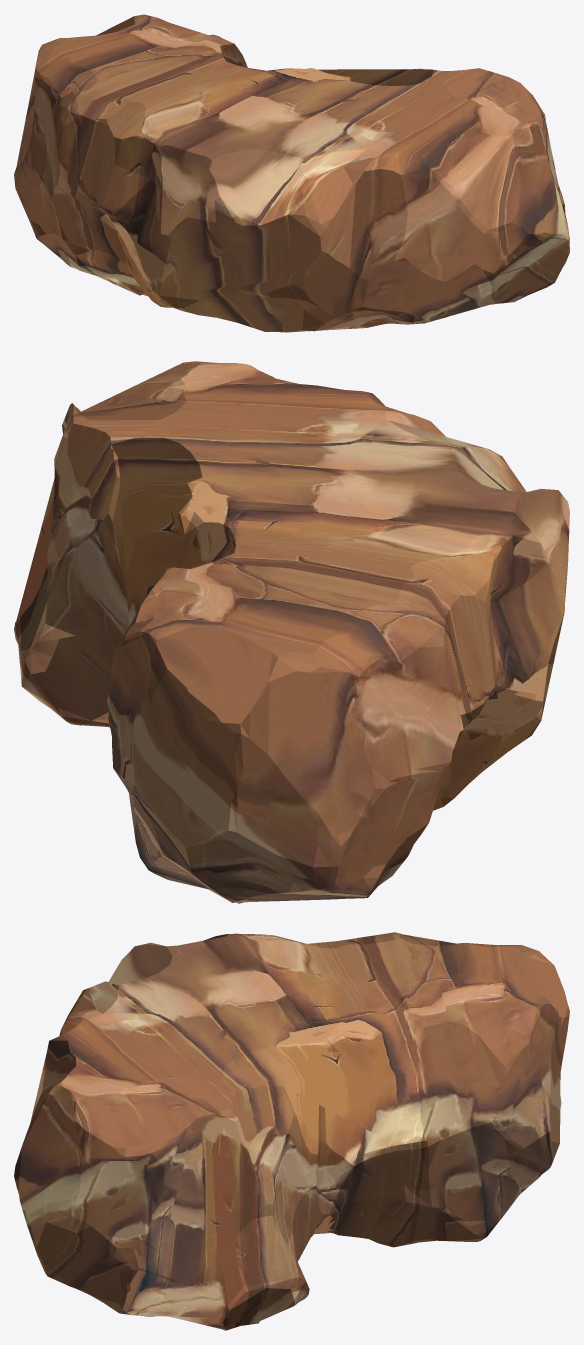
Rendered from platform04.fbx.
The picture shows the model from 3 angles, top to bottom: view 1: azimuth 30°, elevation 25°; view 2: azimuth 150°, elevation 25°; view 3: azimuth 270°, elevation 25°; orthographic projection. The views are drawn at different scales.
Parts seen in each view (by area): view 1: platform04; view 2: platform04; view 3: platform04.
Part boxes in pixels (box(x1,y1,x2,y2)): platform04: box(14, 14, 569, 332); platform04: box(14, 361, 569, 903); platform04: box(14, 932, 569, 1330).
Size of the model in its own units: 8.6 by 9.39 by 4.59.
